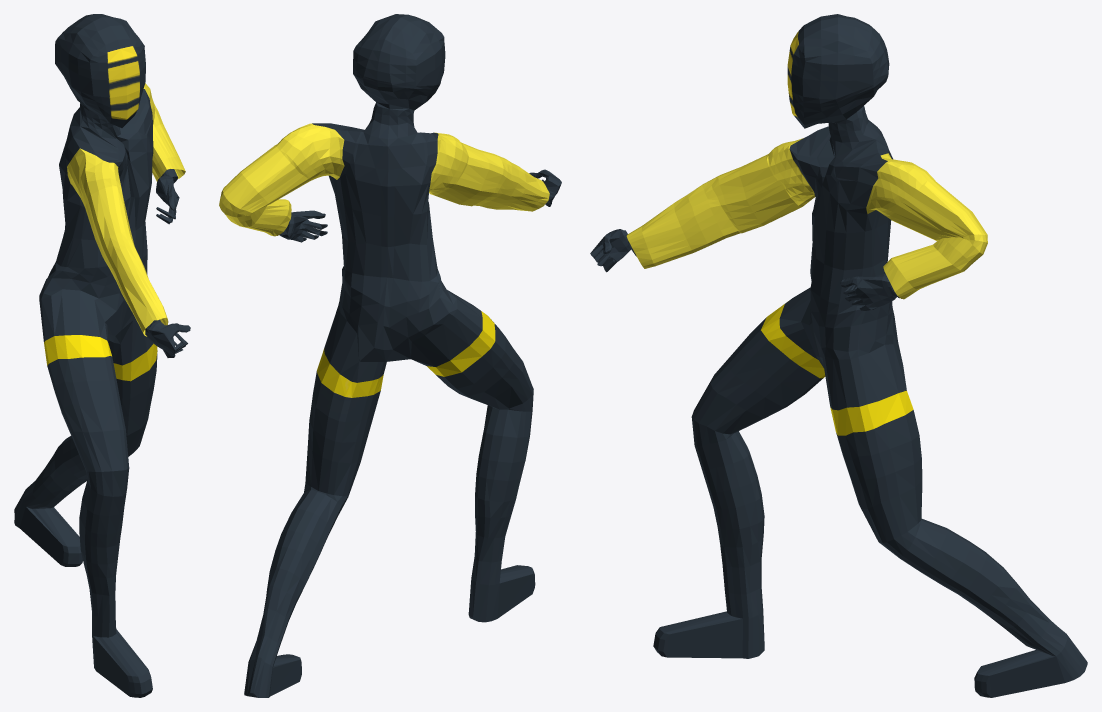
File: Sentry_WF_000002.obj
3 views of the same model, side by side, from view 1: azimuth 30°, elevation 25°; view 2: azimuth 150°, elevation 25°; view 3: azimuth 270°, elevation 25° (orthographic). The views are drawn at different scales.
Parts seen in each view (by area): view 1: Cube; view 2: Cube; view 3: Cube.
Part boxes in pixels (box(x1,y1,x2,y2)): Cube: box(14, 14, 190, 697); Cube: box(219, 14, 561, 697); Cube: box(590, 14, 1087, 697).
Size of the model in its own units: 1.17 by 3.62 by 2.48.
